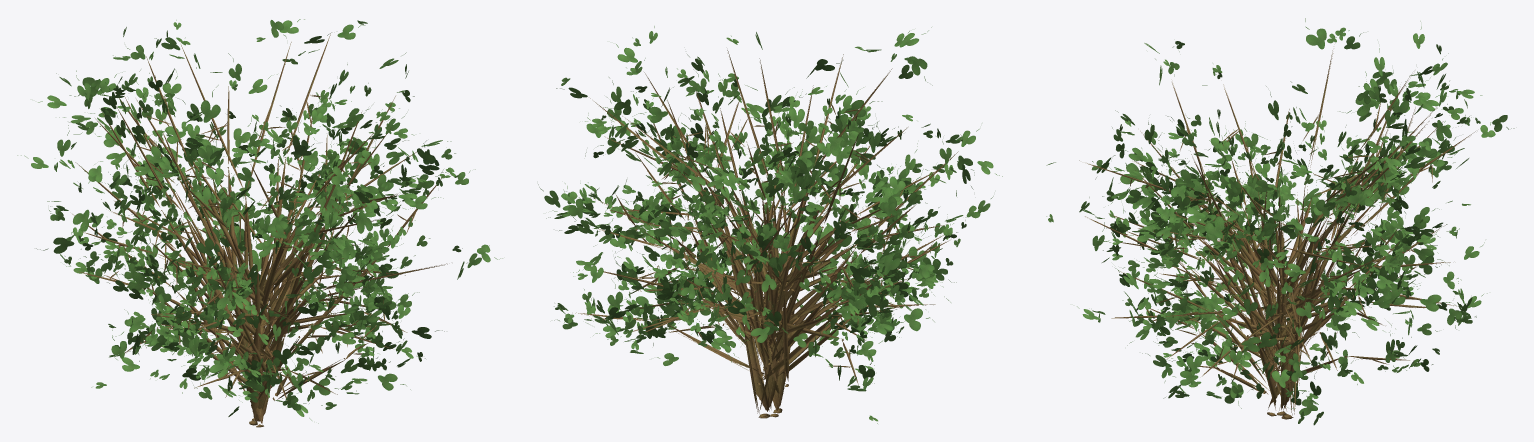
The model's file is SHRUB_02_Privet_Dense.glb.
3 views of the same model, side by side, from view 1: azimuth 30°, elevation 25°; view 2: azimuth 150°, elevation 25°; view 3: azimuth 270°, elevation 25° (orthographic). The views are drawn at different scales.
Visible parts, largest first — view 1: SHRUB_02_Privet_Dense__FoliageCards, SHRUB_02_Privet_Dense__WoodyStems; view 2: SHRUB_02_Privet_Dense__FoliageCards, SHRUB_02_Privet_Dense__WoodyStems; view 3: SHRUB_02_Privet_Dense__FoliageCards, SHRUB_02_Privet_Dense__WoodyStems.
Boxes of the visible parts, box(x1,y1,x2,y2) form: SHRUB_02_Privet_Dense__FoliageCards: box(17, 19, 502, 423); SHRUB_02_Privet_Dense__WoodyStems: box(72, 34, 447, 427); SHRUB_02_Privet_Dense__FoliageCards: box(538, 26, 1002, 423); SHRUB_02_Privet_Dense__WoodyStems: box(575, 50, 958, 418); SHRUB_02_Privet_Dense__FoliageCards: box(1046, 18, 1514, 425); SHRUB_02_Privet_Dense__WoodyStems: box(1079, 50, 1475, 419).
Bounding box in the file's own units: 1.82 × 1.7 × 2.1.
Materials: 1 (1 with a texture image).
